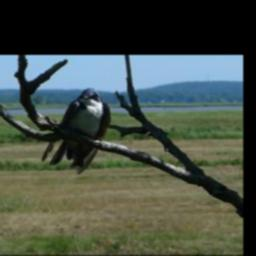Swallow: (38, 85, 114, 176)
